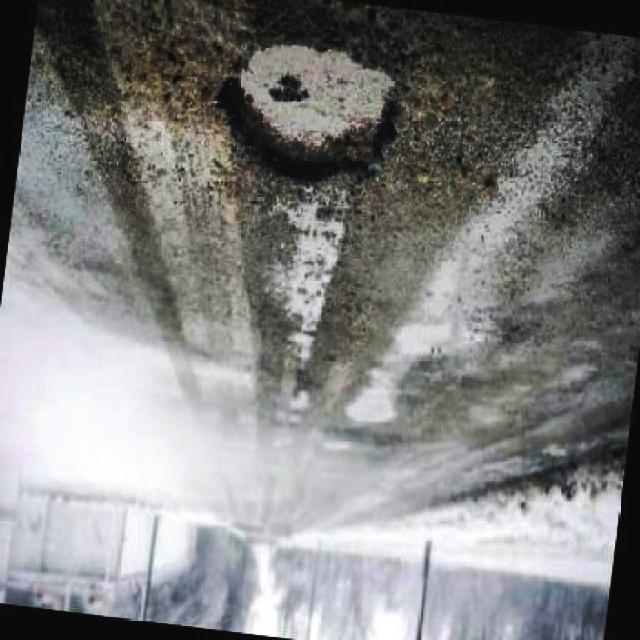pothole: (216, 39, 407, 188)
